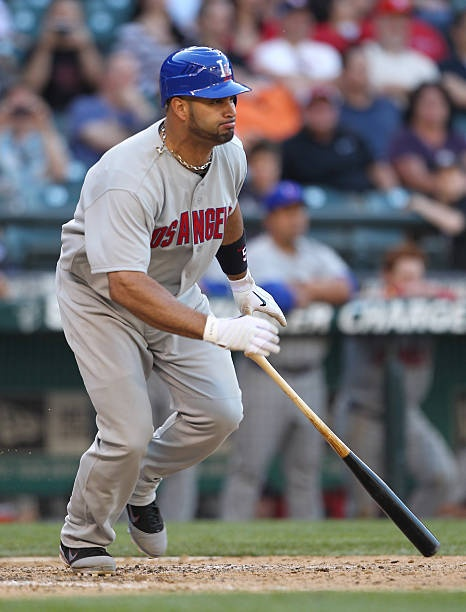bita: (249, 343, 440, 561)
